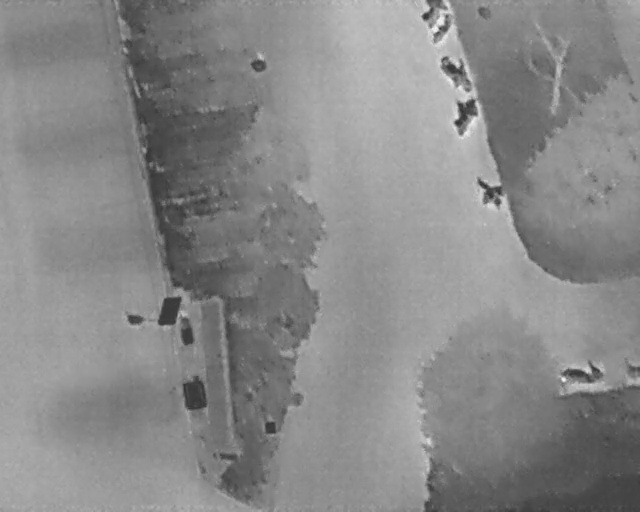Bicycle: (433, 47, 480, 98), (441, 90, 485, 141), (426, 8, 458, 51), (559, 358, 605, 383), (476, 177, 504, 208), (420, 0, 449, 28), (620, 357, 639, 379)
